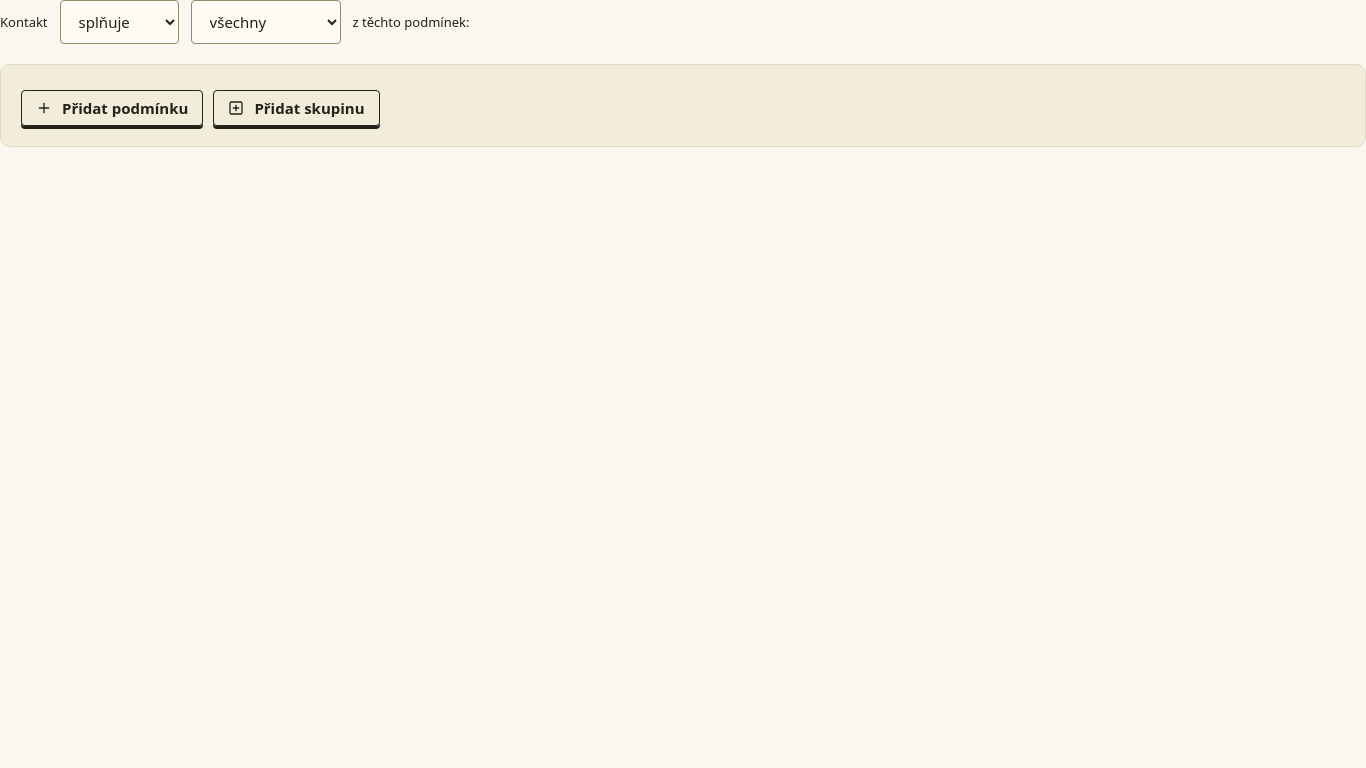
it: QueryBuilder › v páté úrovni schová tlačítko na skupinu a vysvětlí proč
Click the button "Přidat skupinu".
click(296, 108)  # box [213, 90, 380, 126]
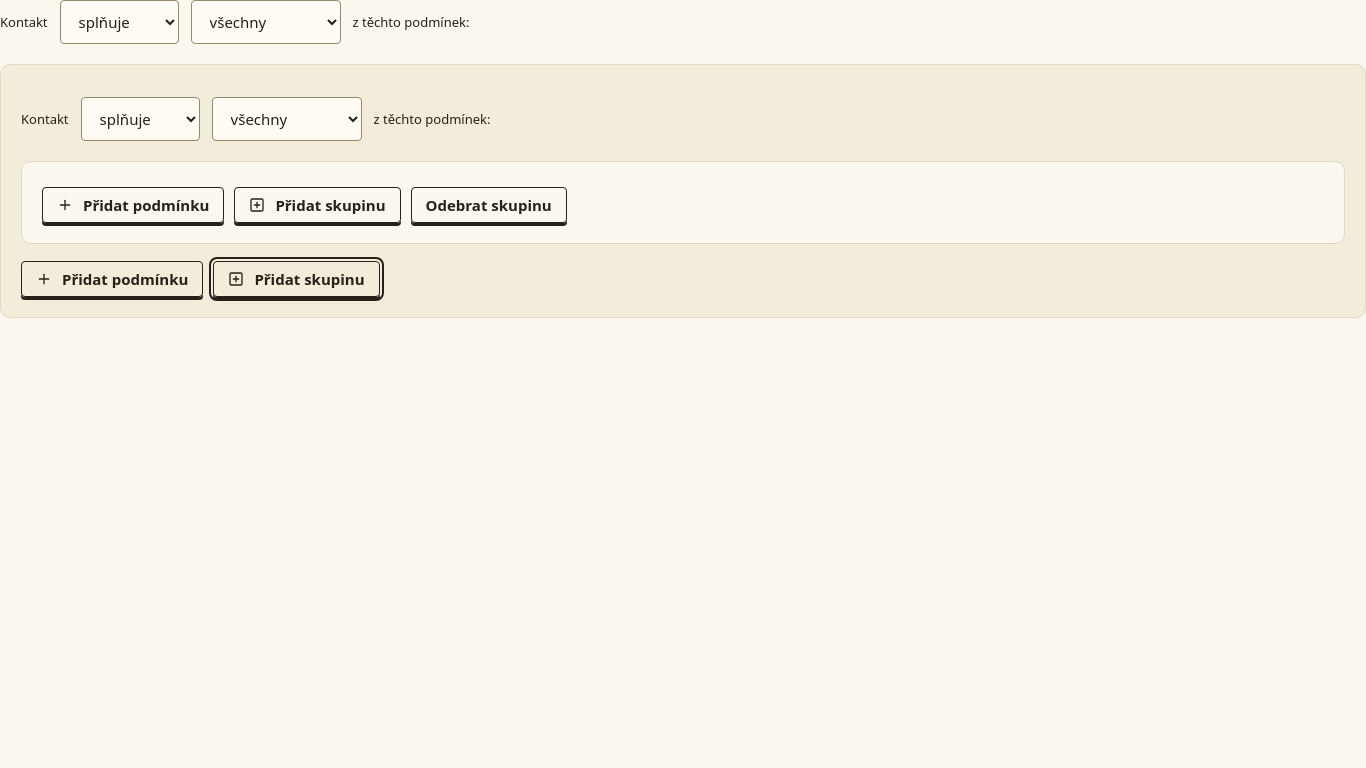
Click the 1st button "Přidat skupinu".
click(318, 205)  # box [234, 187, 401, 223]
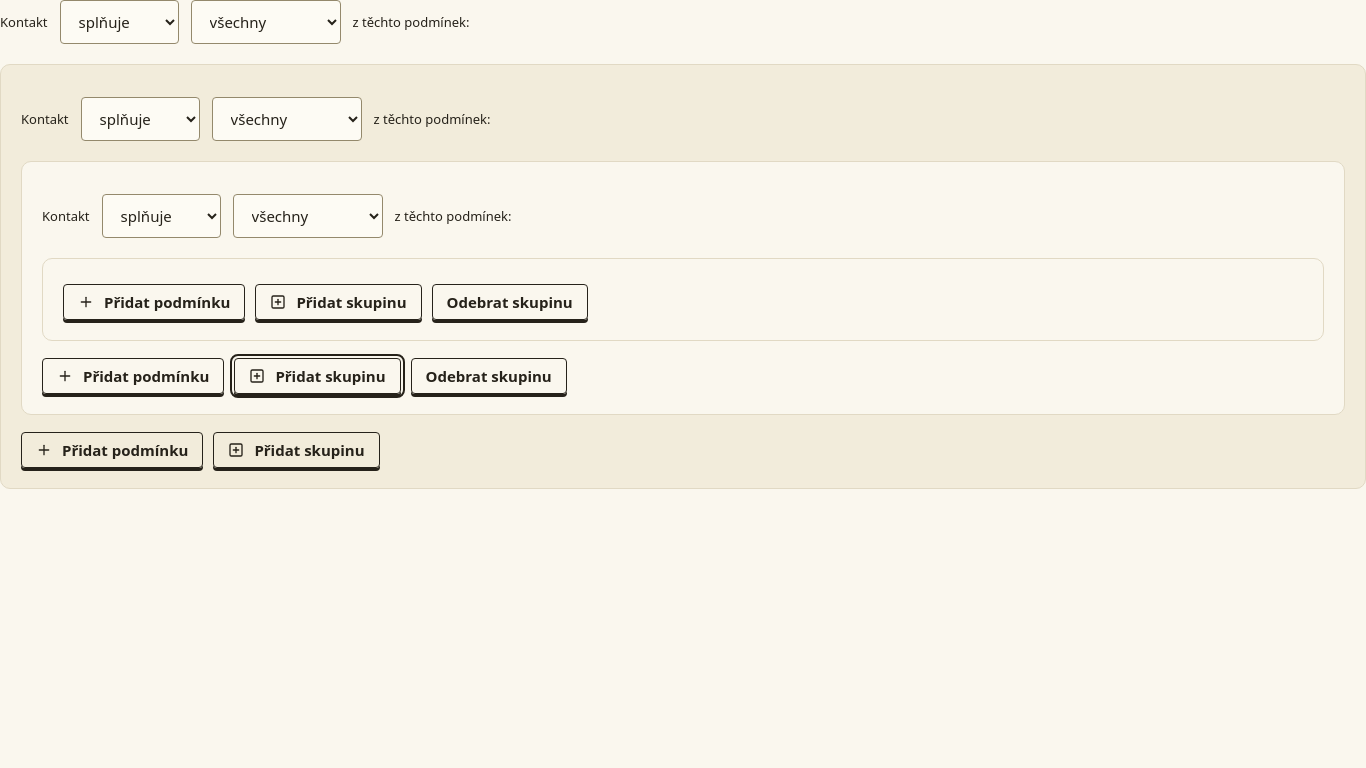
Click the 1st button "Přidat skupinu".
click(338, 302)  # box [255, 284, 422, 320]
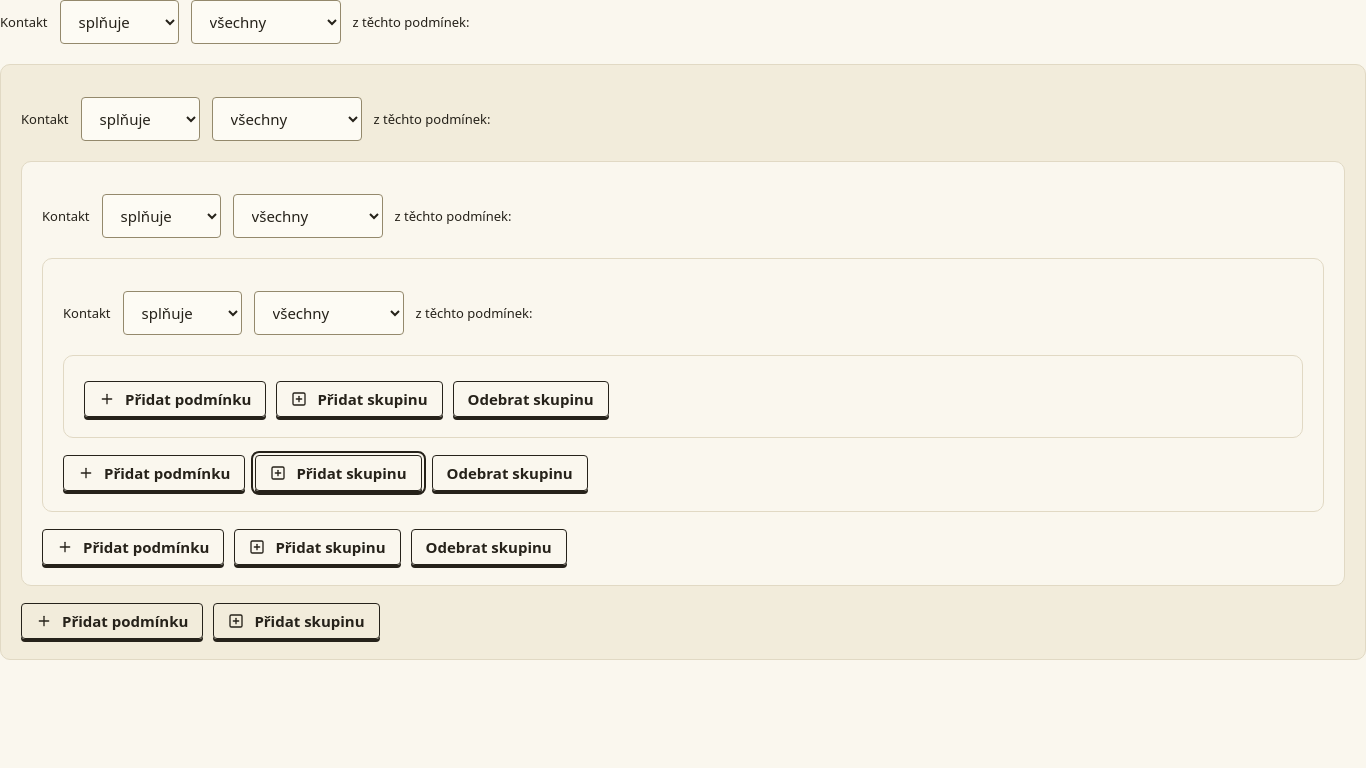
Click the 1st button "Přidat skupinu".
click(360, 399)  # box [276, 381, 443, 417]
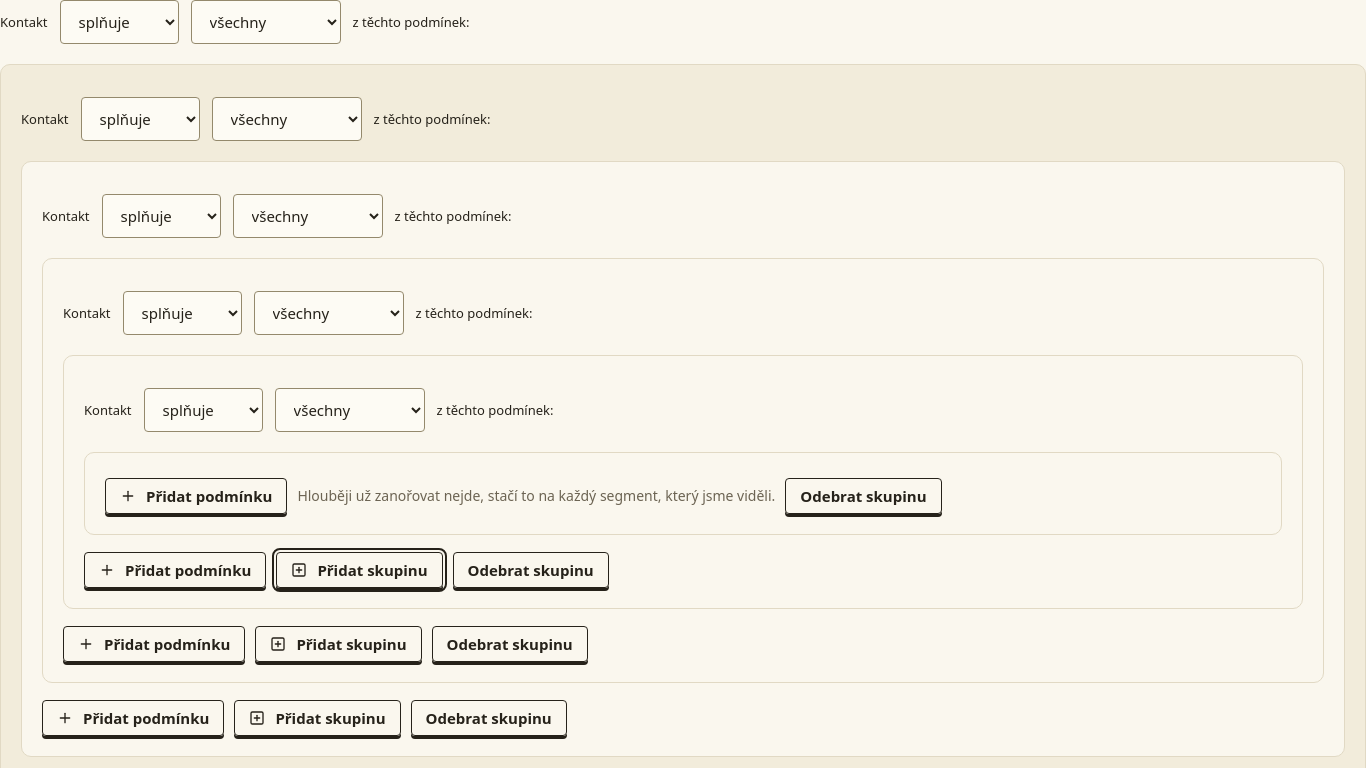
Now the text "Hlouběji už zanořovat nejde, stačí to na každý segment, který jsme viděli." is shown, box [297, 486, 775, 506]
